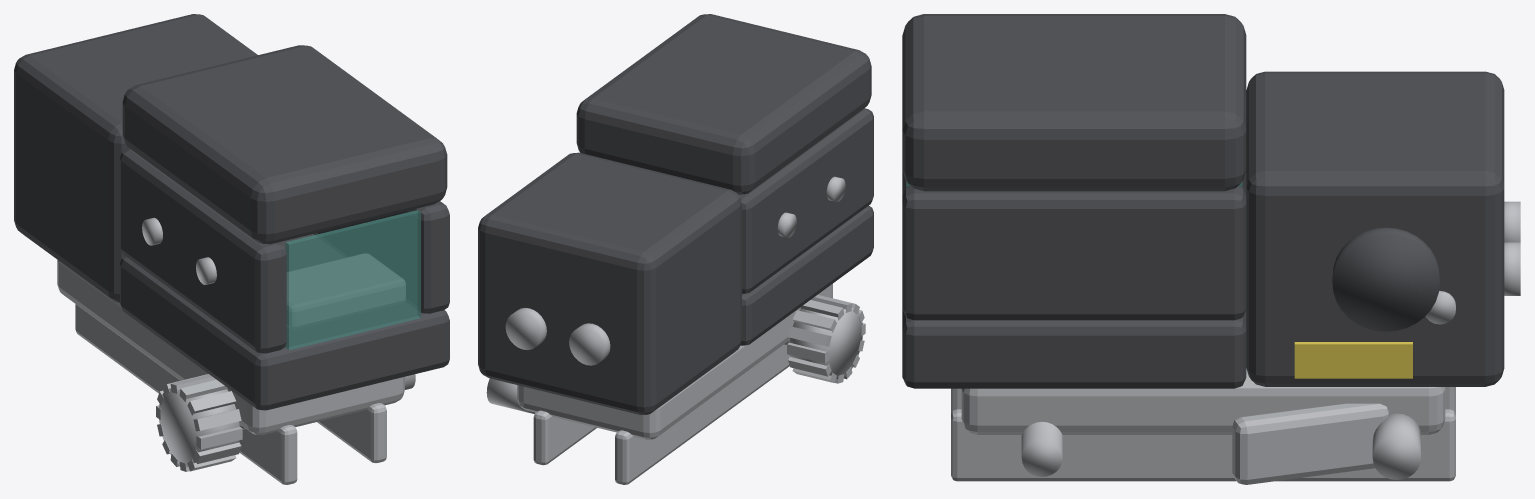
The model's file is M4_HolographicSight.fbx.
The picture shows the model from 3 angles, left to right: view 1: azimuth 30°, elevation 25°; view 2: azimuth 150°, elevation 25°; view 3: azimuth 270°, elevation 25°; orthographic projection. The views are drawn at different scales.
Visible parts, largest first — view 1: HolographicSight; view 2: HolographicSight; view 3: HolographicSight.
Part boxes in pixels (<box>): HolographicSight: <box>14,14,449,484</box>; HolographicSight: <box>478,14,873,484</box>; HolographicSight: <box>902,14,1520,484</box>.
Size of the model in its own units: 6.09 by 8 by 11.5.
